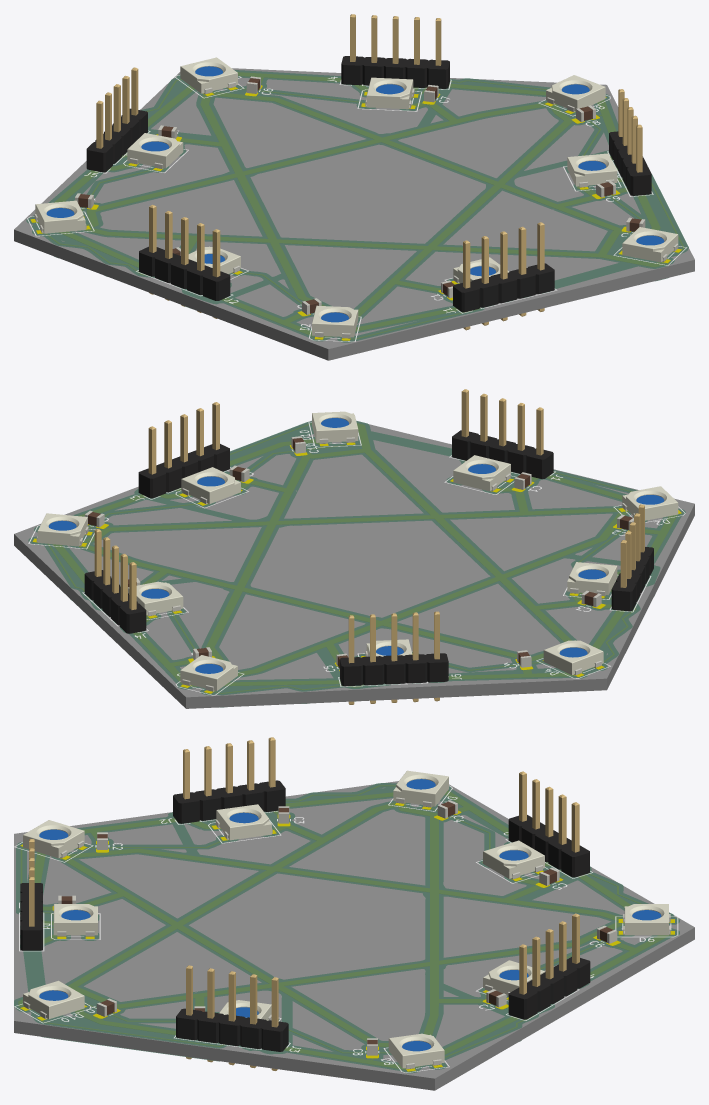
Rendered from pentagon.glb.
3 views of the same model, one above another, from view 1: azimuth 30°, elevation 25°; view 2: azimuth 150°, elevation 25°; view 3: azimuth 270°, elevation 25° (orthographic). The views are drawn at different scales.
Visible parts, largest first — view 1: =>[0:1:1:8], =>[0:1:1:7], =>[0:1:1:5], J1, J2, J4, J5, J3, =>[0:1:1:6], D6, D8, D10 (+7 smaller); view 2: =>[0:1:1:8], =>[0:1:1:7], =>[0:1:1:5], J5, J1, J3, J4, J2, =>[0:1:1:6], D4, D9, D1 (+7 smaller); view 3: =>[0:1:1:8], =>[0:1:1:7], =>[0:1:1:5], J3, J2, J4, J5, =>[0:1:1:6], J1, D5, D10, D2 (+7 smaller).
Part boxes in pixels (left/top/right/bottom): =>[0:1:1:8]: left=14, top=68, right=694, bottom=360; =>[0:1:1:7]: left=26, top=70, right=688, bottom=342; =>[0:1:1:5]: left=30, top=72, right=683, bottom=340; J1: left=453, top=222, right=554, bottom=330; J2: left=139, top=204, right=230, bottom=318; J4: left=341, top=14, right=449, bottom=88; J5: left=86, top=67, right=147, bottom=172; J3: left=609, top=89, right=651, bottom=195; =>[0:1:1:6]: left=27, top=75, right=687, bottom=341; D6: left=180, top=57, right=237, bottom=94; D8: left=546, top=75, right=605, bottom=112; D10: left=622, top=227, right=678, bottom=262; =>[0:1:1:8]: left=14, top=420, right=694, bottom=708; =>[0:1:1:7]: left=28, top=421, right=685, bottom=707; =>[0:1:1:5]: left=32, top=424, right=681, bottom=693; J5: left=340, top=611, right=448, bottom=704; J1: left=452, top=389, right=553, bottom=479; J3: left=138, top=402, right=229, bottom=498; J4: left=84, top=529, right=146, bottom=633; J2: left=611, top=504, right=653, bottom=611; =>[0:1:1:6]: left=28, top=422, right=685, bottom=695; D4: left=543, top=640, right=603, bottom=675; D9: left=181, top=467, right=240, bottom=504; D1: left=453, top=455, right=510, bottom=491; =>[0:1:1:8]: left=14, top=781, right=694, bottom=1090; =>[0:1:1:7]: left=14, top=783, right=679, bottom=1073; =>[0:1:1:5]: left=19, top=786, right=674, bottom=1071; J3: left=176, top=965, right=288, bottom=1070; J2: left=173, top=737, right=285, bottom=823; J4: left=508, top=913, right=590, bottom=1019; J5: left=508, top=771, right=589, bottom=877; =>[0:1:1:6]: left=14, top=785, right=678, bottom=1072; J1: left=20, top=839, right=42, bottom=950; D5: left=483, top=840, right=544, bottom=879; D10: left=23, top=980, right=84, bottom=1019; D2: left=23, top=820, right=84, bottom=858.
Bounding box in the file's own units: 0.0809 × 0.0115 × 0.0769.
